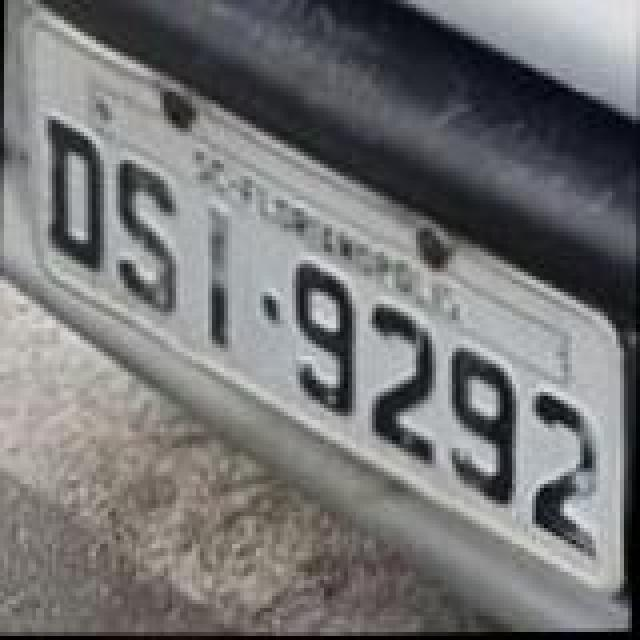1: (200, 198, 236, 354)
2: (528, 392, 608, 564), (364, 302, 444, 470)
9: (444, 346, 524, 510), (290, 260, 362, 420)
D: (36, 116, 108, 276)
S: (108, 154, 180, 314)
